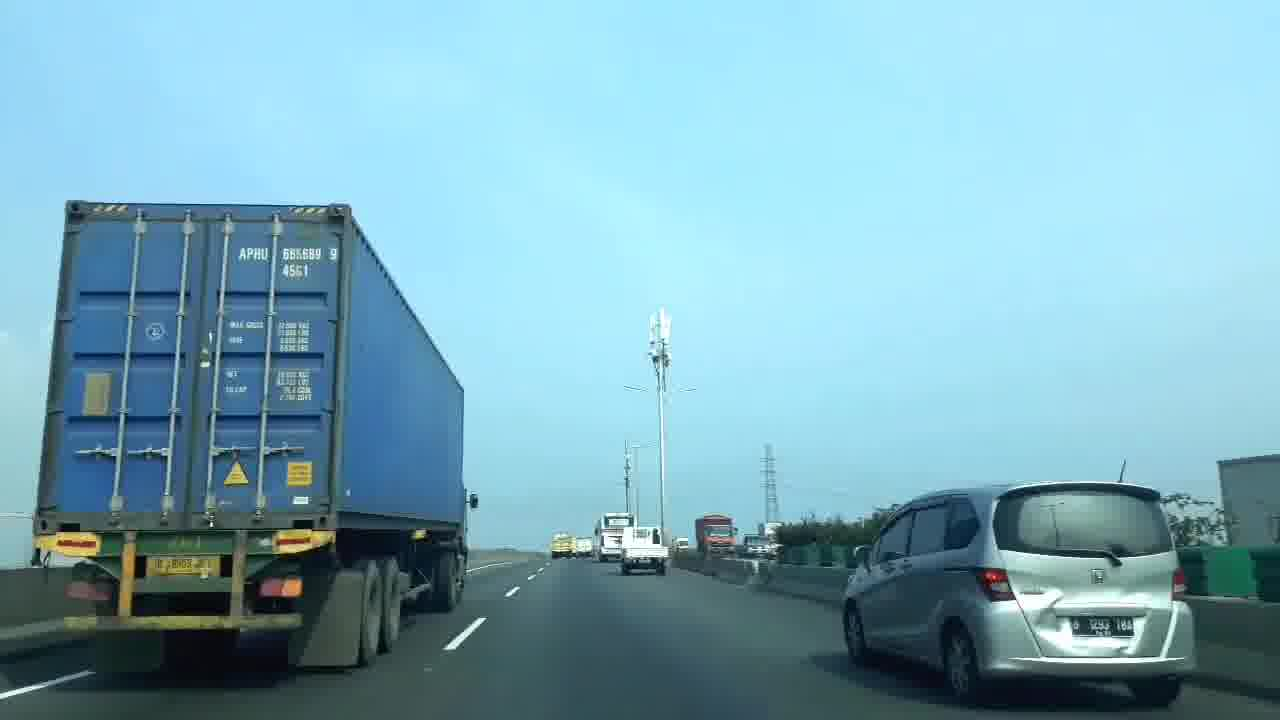plate_positive: (145, 555, 221, 578), (1070, 615, 1135, 638)
